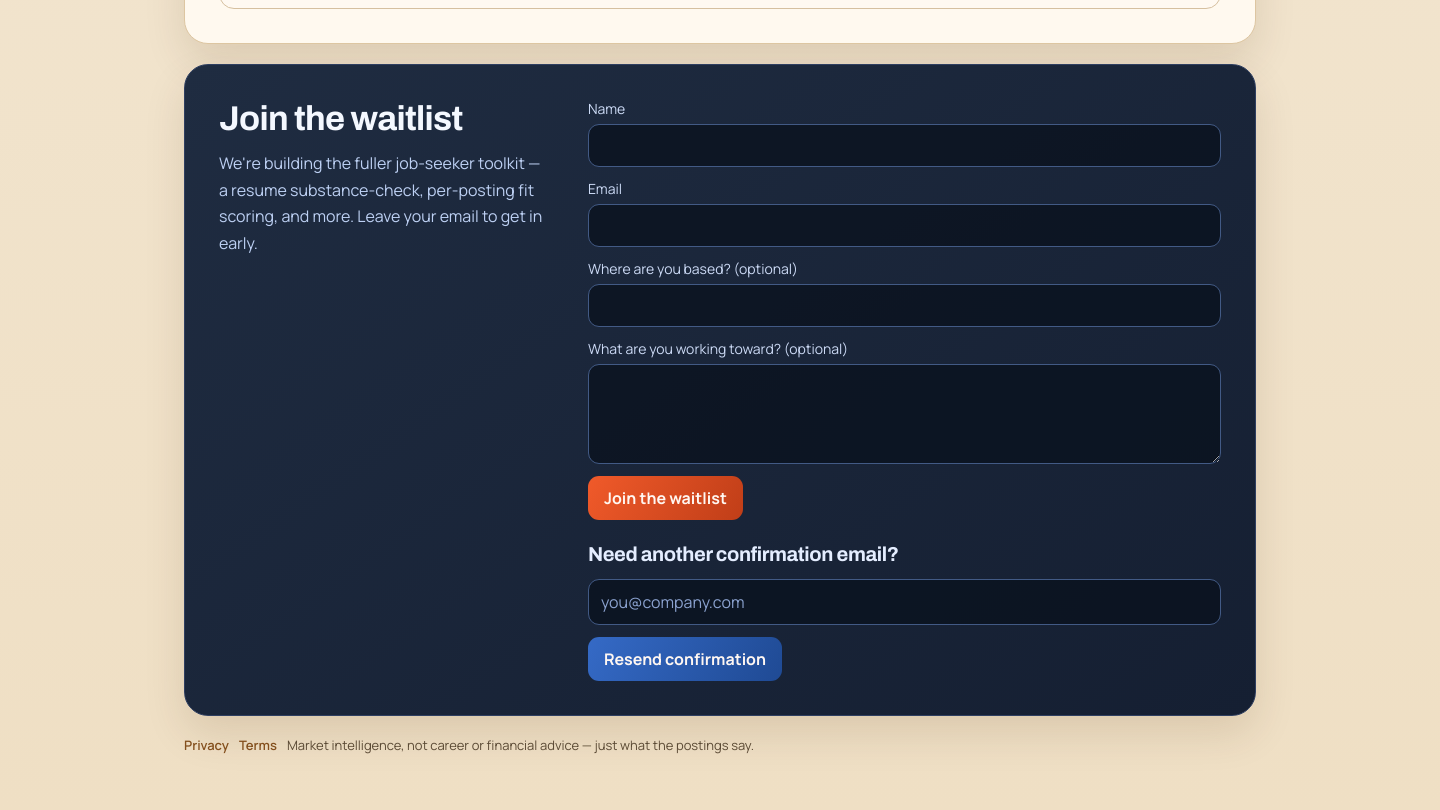
Test: App › resend confirmation › shows error when resend fails
This screenshot has width=1440, height=810.
(page scrolled)
In the field with placeholder "you@company.com": coordinates (904, 602) [588,579,1221,625], type "test@example.com"
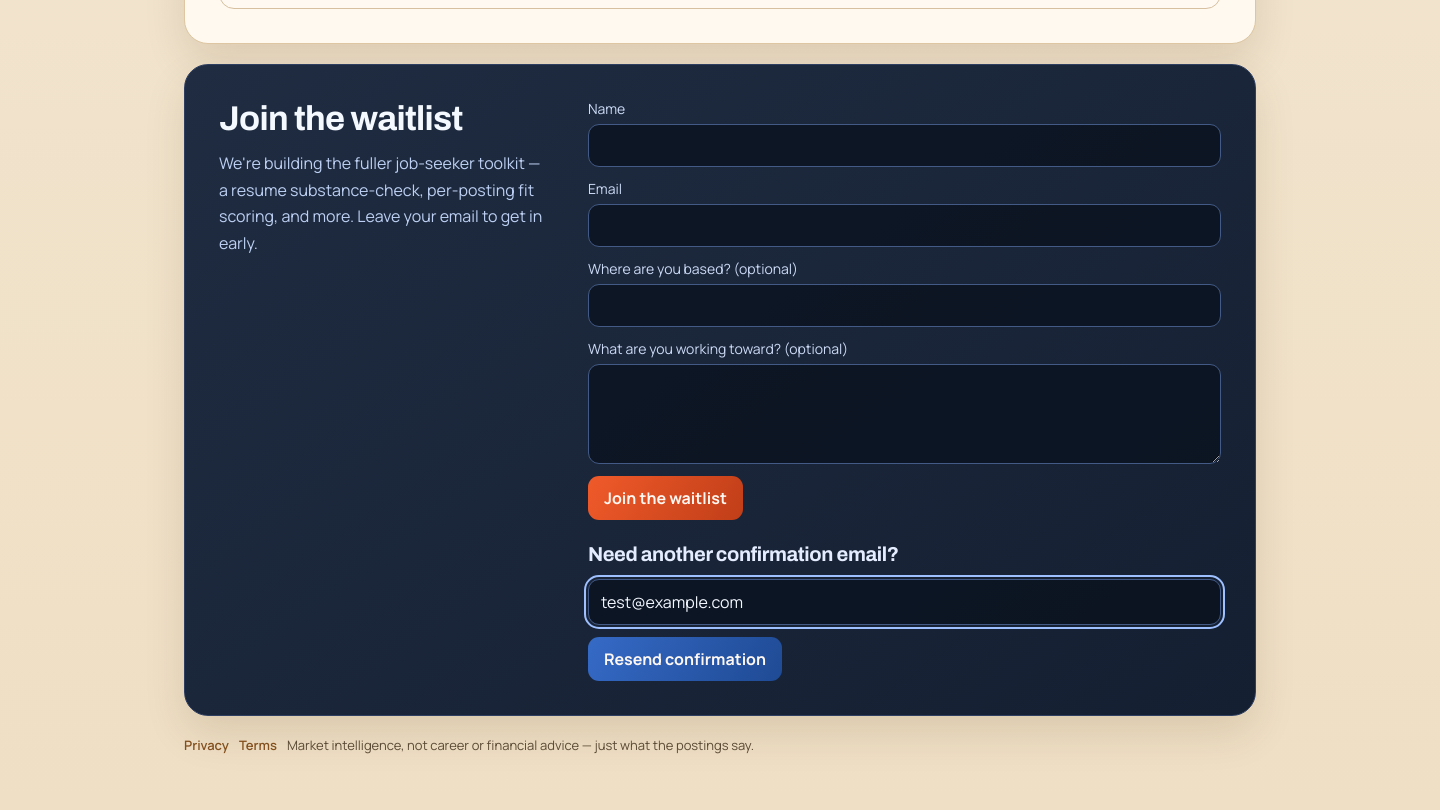
Click the button "Resend confirmation": coordinates (685, 659) [588,637,782,681]
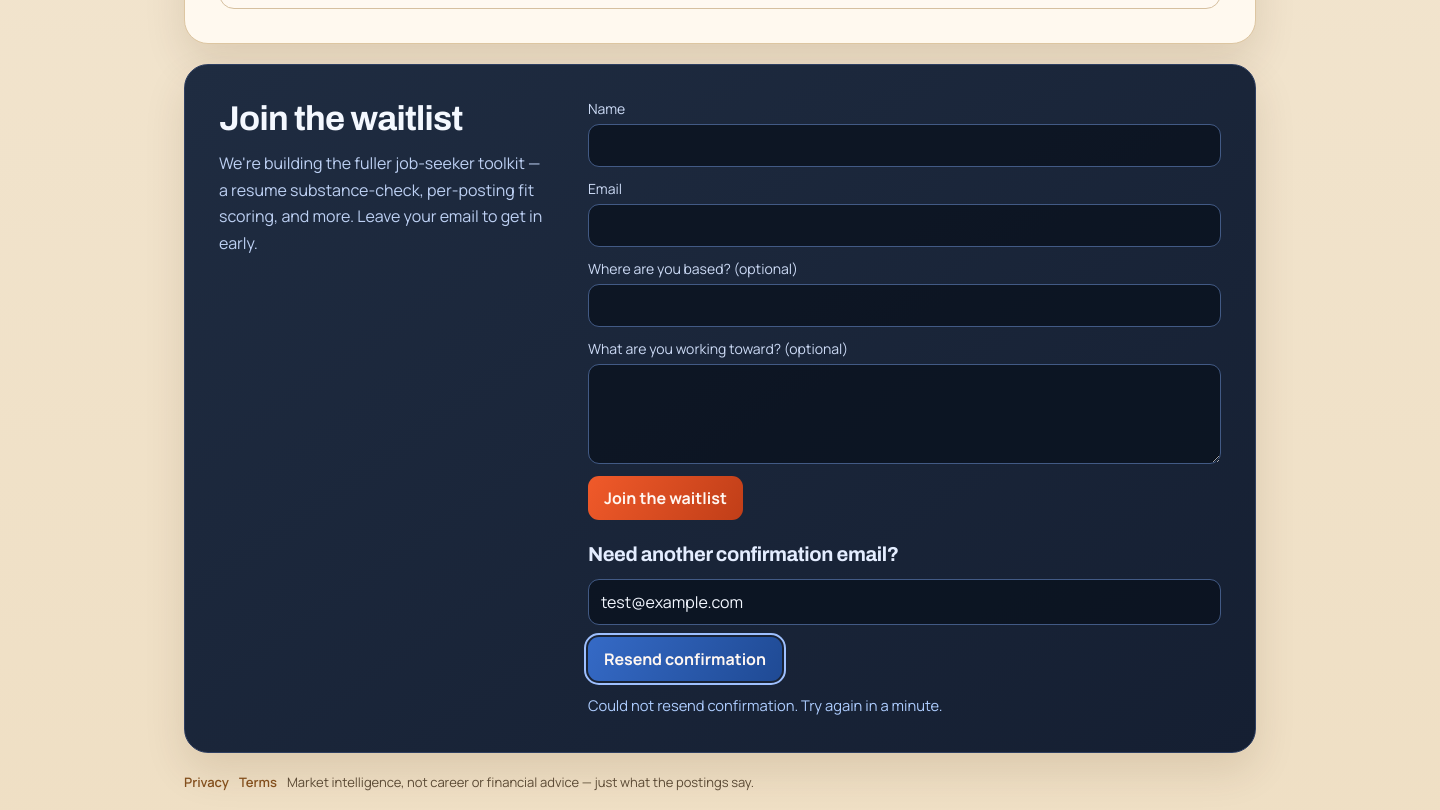
Check: the text "Could not resend confirmation. Try again in a minute." is shown, box [588,695,943,715]
